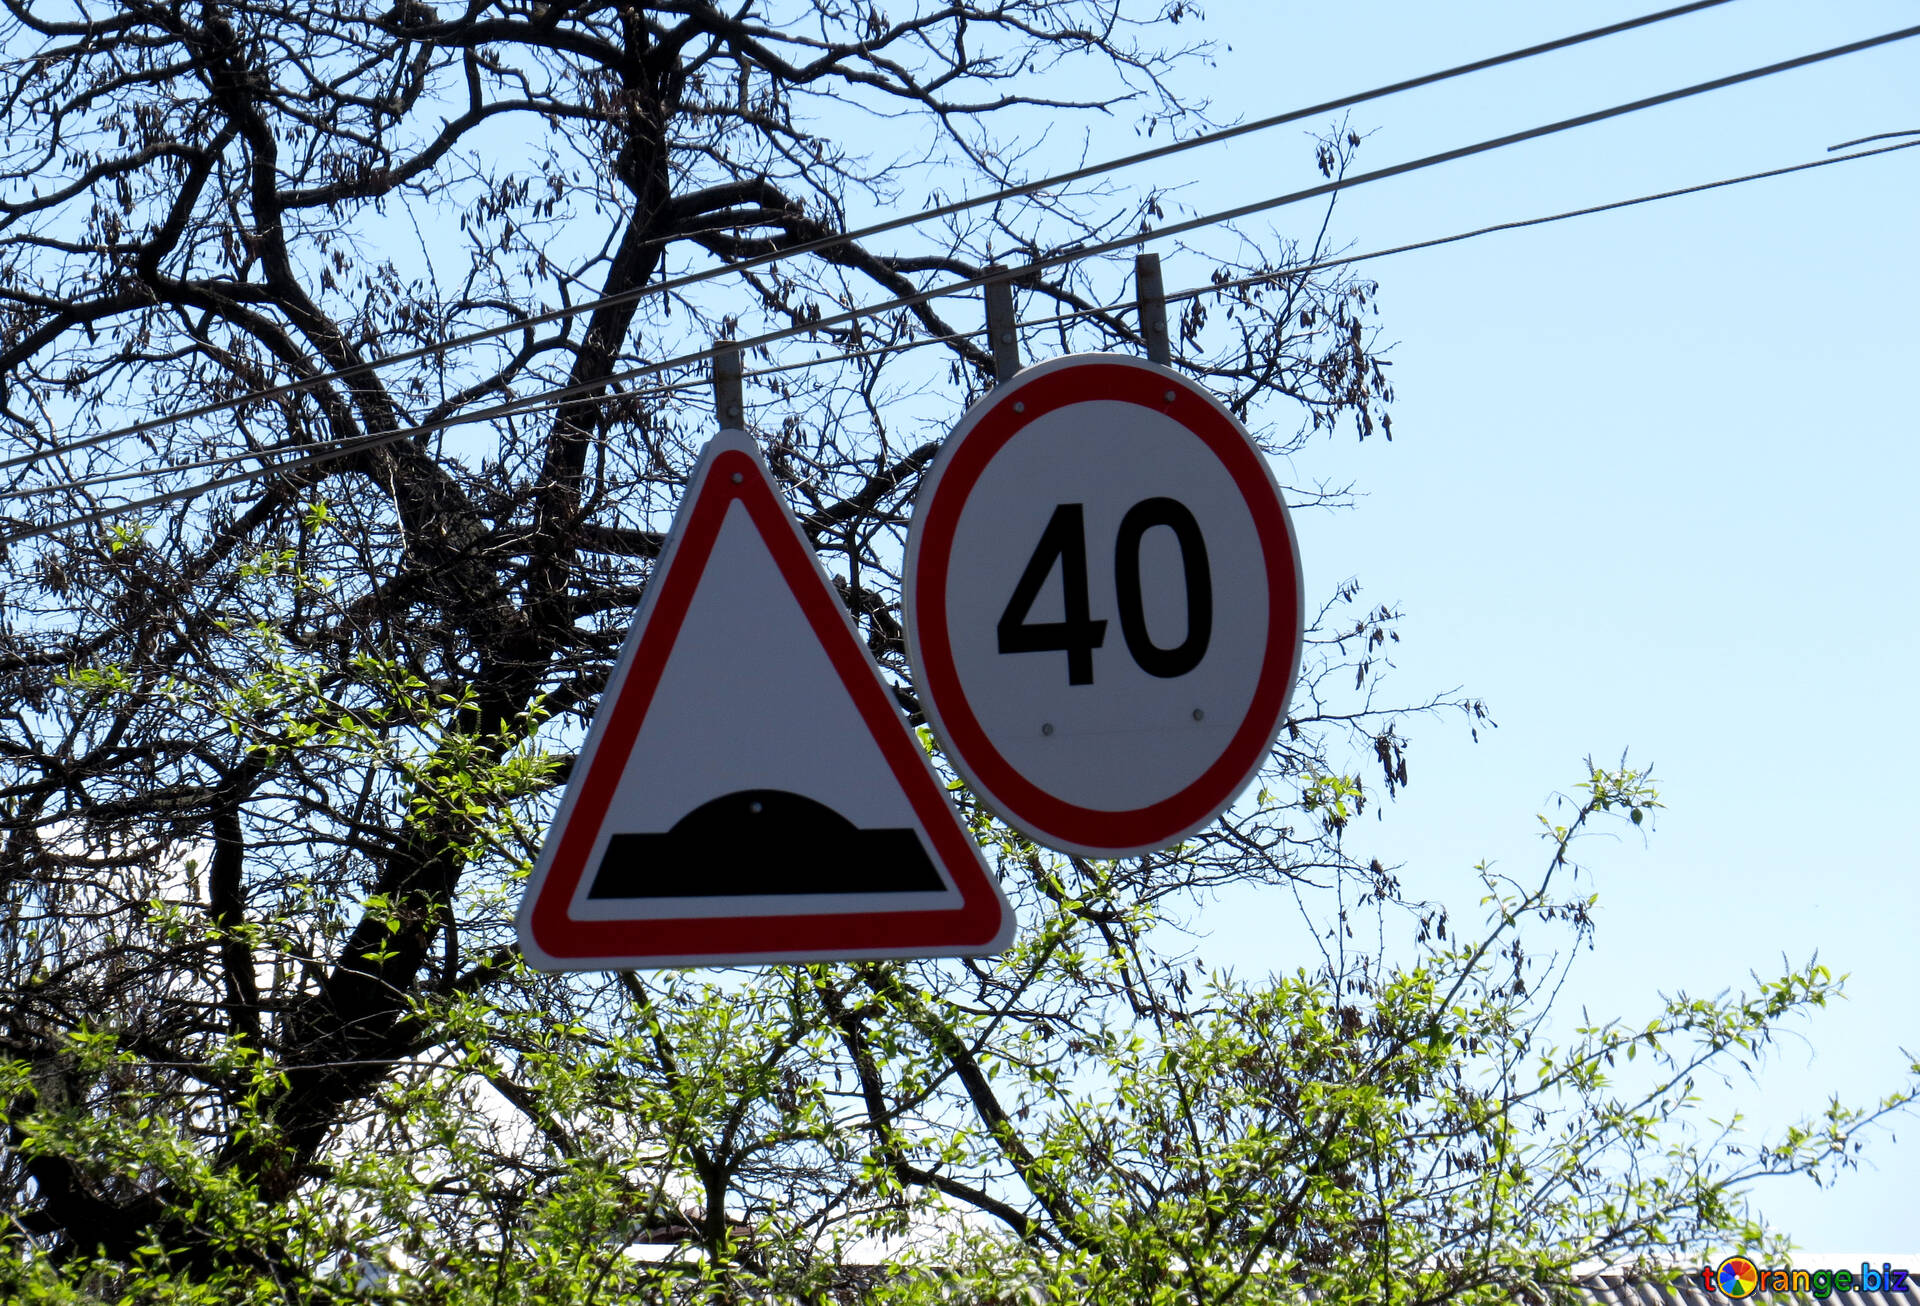40 Km/hr: (921, 361, 1292, 853)
